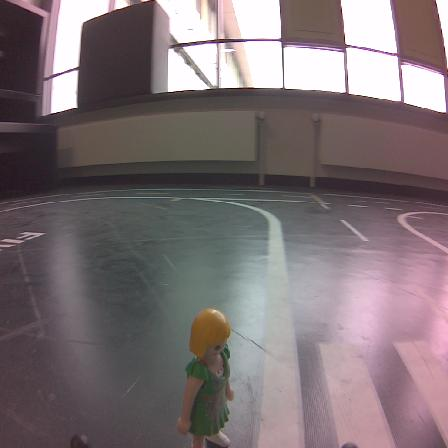PERSON: (177, 308, 233, 447)
